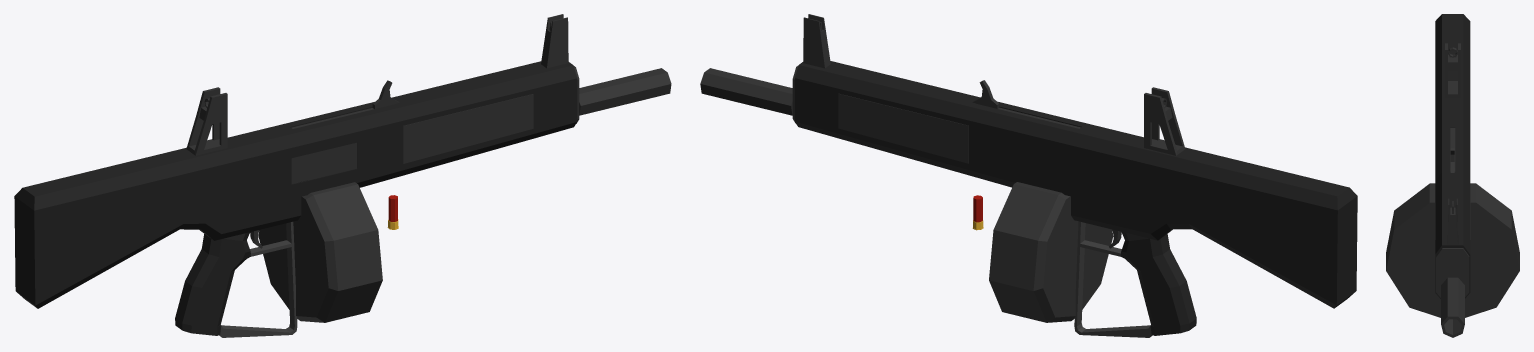
3 views of the same model, side by side, from view 1: azimuth 30°, elevation 25°; view 2: azimuth 150°, elevation 25°; view 3: azimuth 270°, elevation 25° (orthographic). The views are drawn at different scales.
Parts seen in each view (by area): view 1: AA-12, Mag; view 2: AA-12, Mag; view 3: AA-12, Mag.
Boxes of the visible parts, x1,y1,x2,y2 form: AA-12: [14, 14, 671, 337]; Mag: [258, 180, 382, 322]; AA-12: [700, 14, 1357, 337]; Mag: [989, 182, 1113, 322]; AA-12: [1435, 14, 1470, 337]; Mag: [1386, 183, 1519, 317].
Size of the model in its own units: 779 by 301 by 160.
1 material, 1 textured.
